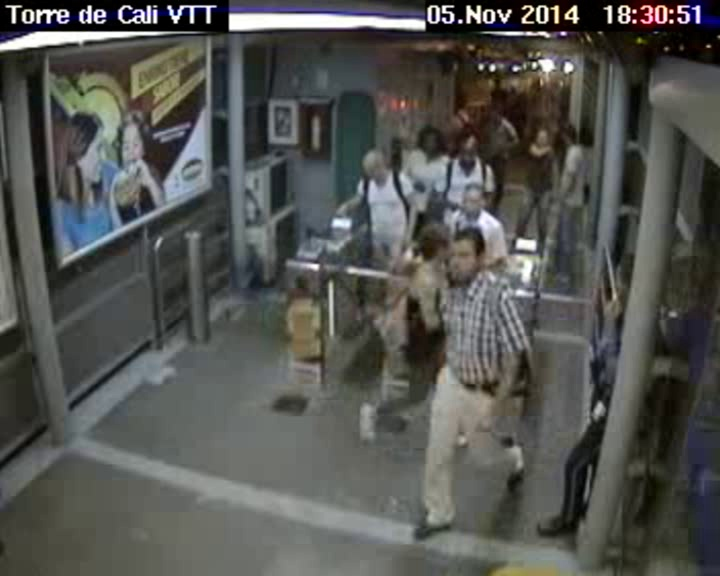person: (414, 218, 458, 274), (610, 250, 646, 312), (446, 224, 485, 279), (351, 146, 395, 183), (462, 181, 487, 216), (457, 135, 480, 170), (417, 125, 440, 156), (531, 126, 550, 147), (488, 104, 503, 125), (454, 98, 469, 117), (563, 129, 578, 146)
